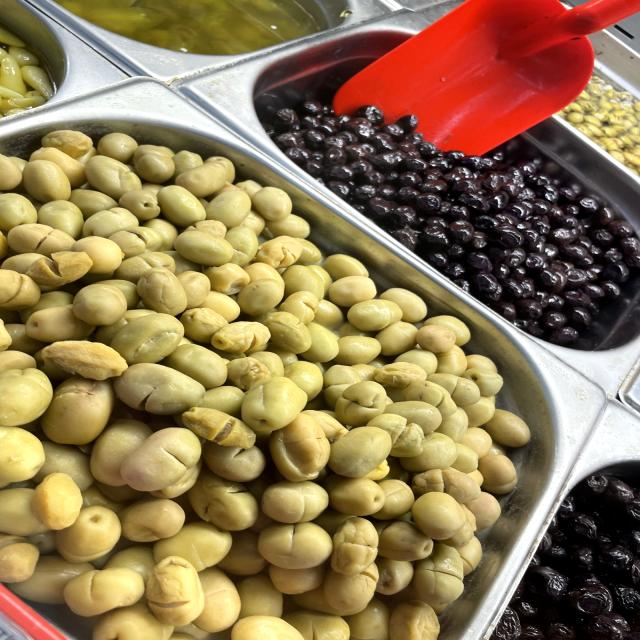olive: (444, 211, 612, 287), (404, 188, 455, 222)
